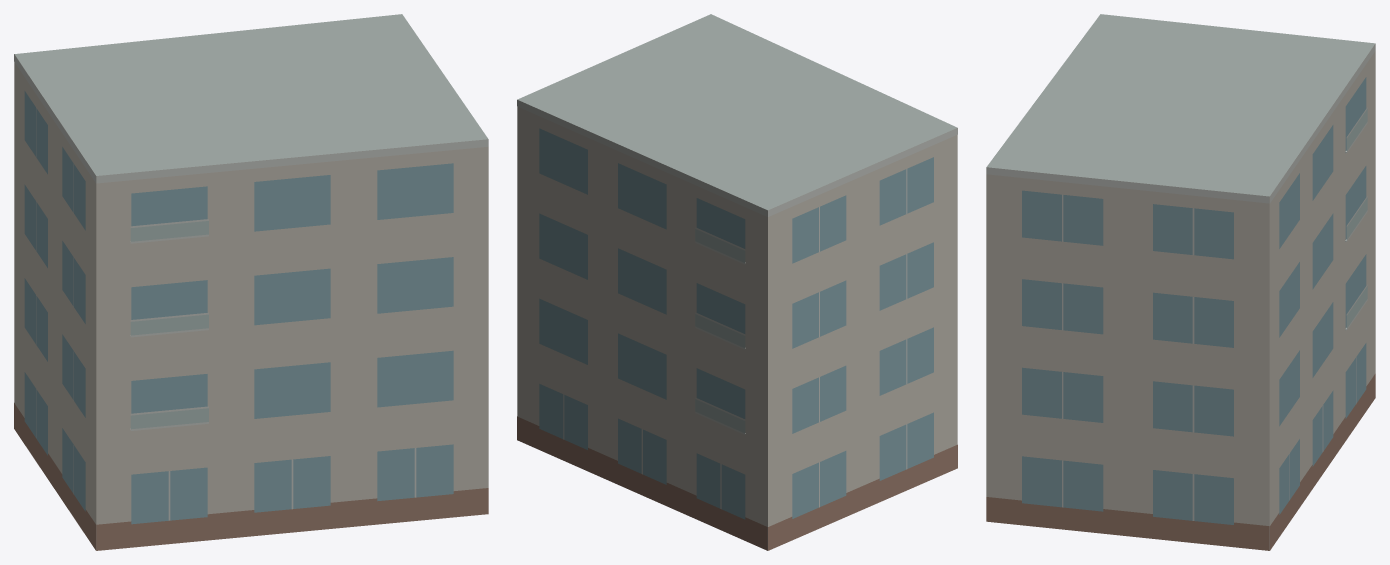
The model's file is survey-upis-32647855.glb.
3 renders of one model, left to right at view 1: azimuth 30°, elevation 25°; view 2: azimuth 150°, elevation 25°; view 3: azimuth 270°, elevation 25°, orthographic. The views are drawn at different scales.
Parts seen in each view (by area): view 1: survey-upis-32647855.tmp; view 2: survey-upis-32647855.tmp; view 3: survey-upis-32647855.tmp.
Boxes of the visible parts, x1=… form: survey-upis-32647855.tmp: x1=14, y1=14, x2=488, y2=550; survey-upis-32647855.tmp: x1=517, y1=14, x2=957, y2=550; survey-upis-32647855.tmp: x1=986, y1=14, x2=1375, y2=550.
Size of the model in its own units: 13.48 by 12.2 by 12.15.
